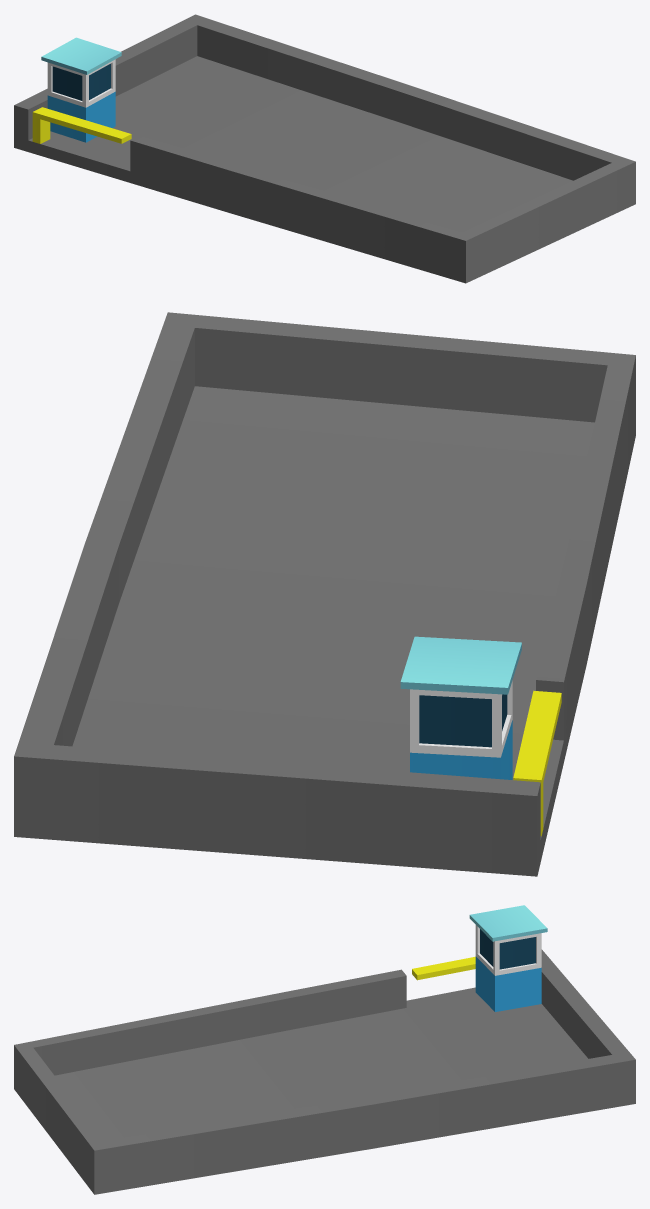
File: parkiran.fbx
The picture shows the model from 3 angles, top to bottom: view 1: azimuth 30°, elevation 25°; view 2: azimuth 150°, elevation 25°; view 3: azimuth 270°, elevation 25°; orthographic projection. The views are drawn at different scales.
Visible parts, largest first — view 1: parkiran, parkiran2; view 2: parkiran, parkiran2; view 3: parkiran, parkiran2.
Boxes of the visible parts, bbox=[...] form: parkiran: bbox=[14, 14, 635, 283]; parkiran2: bbox=[41, 37, 121, 142]; parkiran: bbox=[14, 312, 635, 876]; parkiran2: bbox=[400, 636, 521, 779]; parkiran: bbox=[14, 949, 635, 1194]; parkiran2: bbox=[469, 905, 547, 1011].
Bounding box in the file's own units: 3011 × 635 × 3824.
